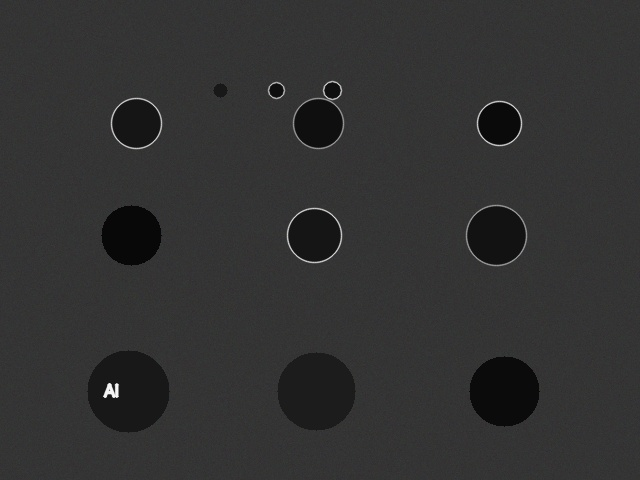hole: (87, 350, 169, 432), (277, 352, 355, 430), (469, 356, 539, 426), (101, 205, 161, 265), (466, 205, 526, 265), (287, 208, 341, 262), (111, 98, 161, 148), (293, 98, 343, 148), (477, 101, 521, 145), (323, 81, 341, 99), (268, 82, 284, 98), (213, 83, 227, 97)
